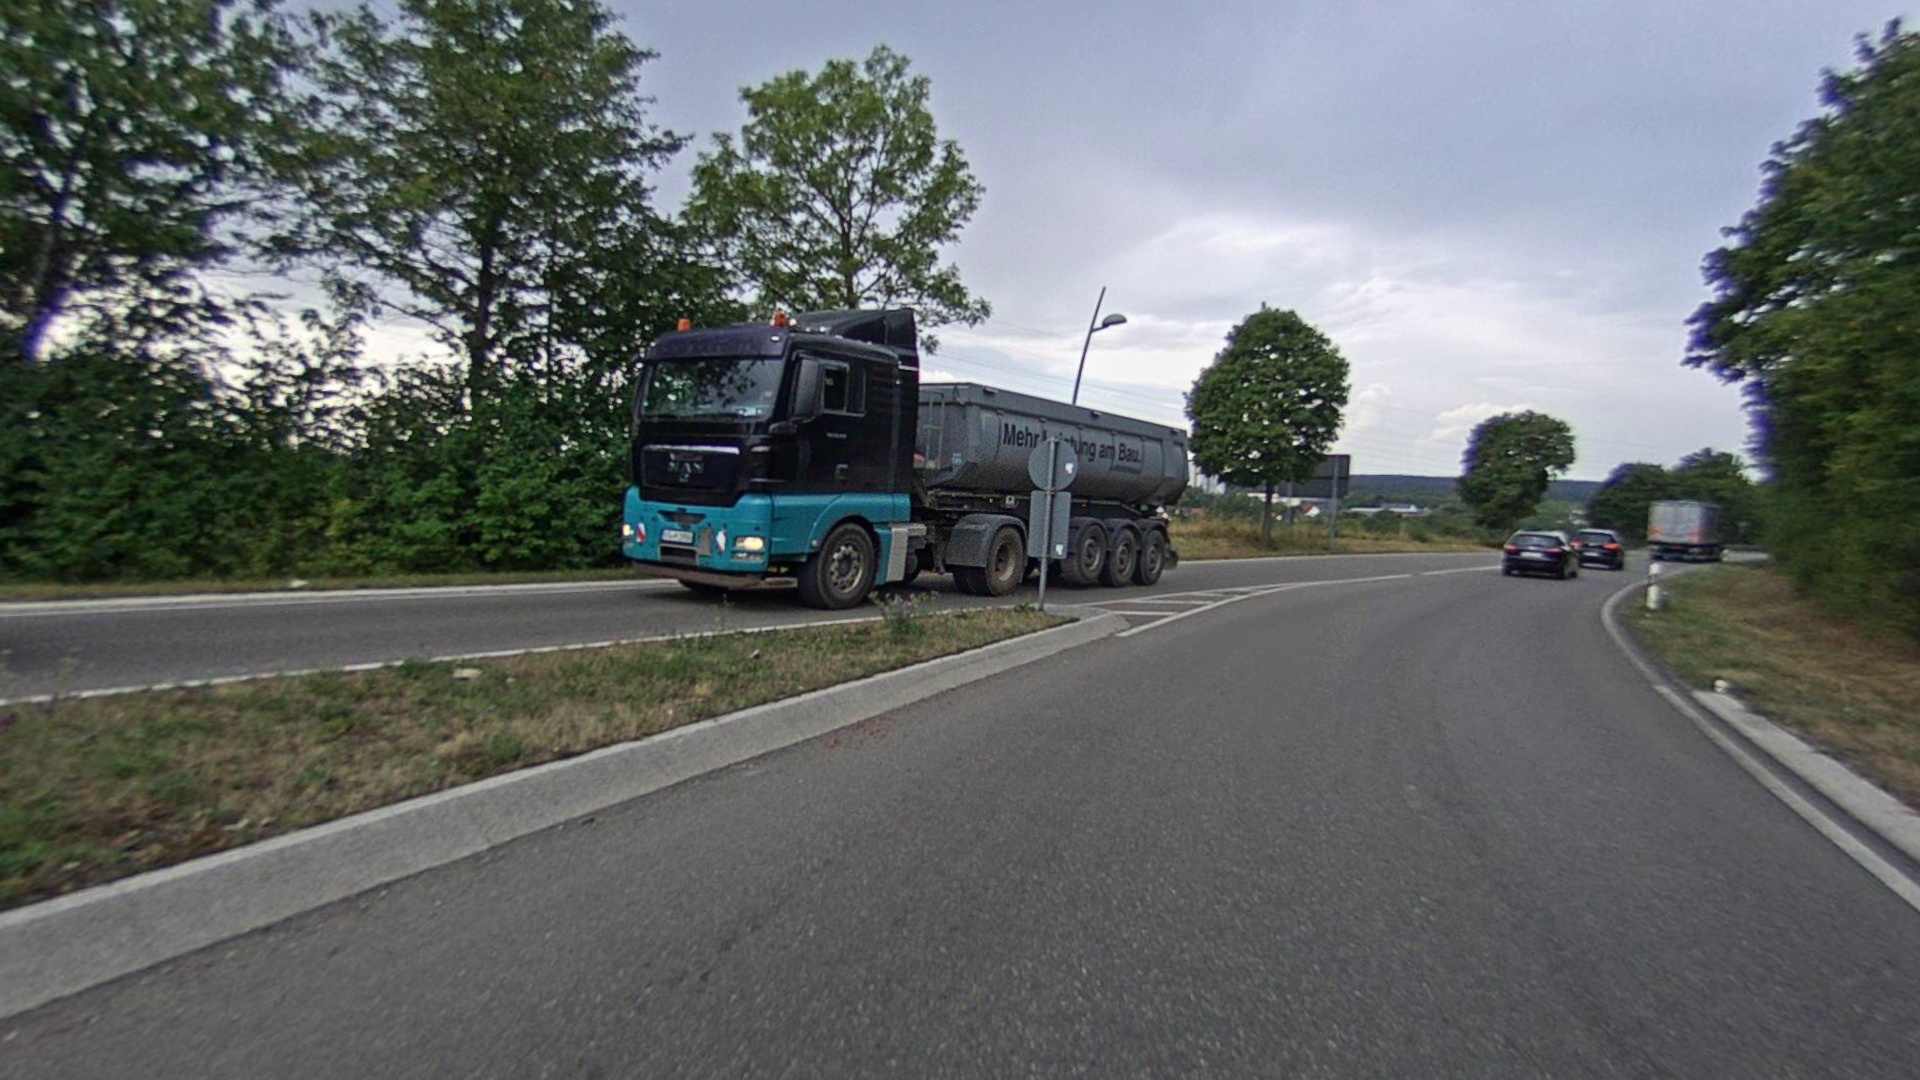truck: (615, 302, 1192, 611)
